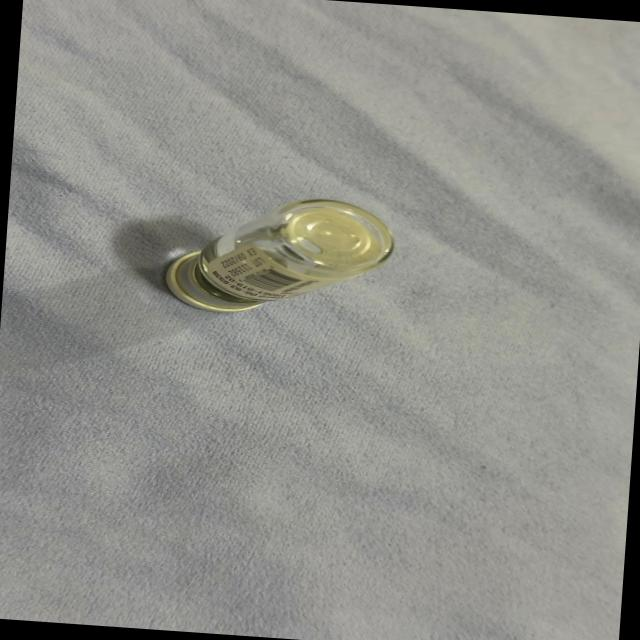fentanl_citrat: (164, 190, 393, 322)
